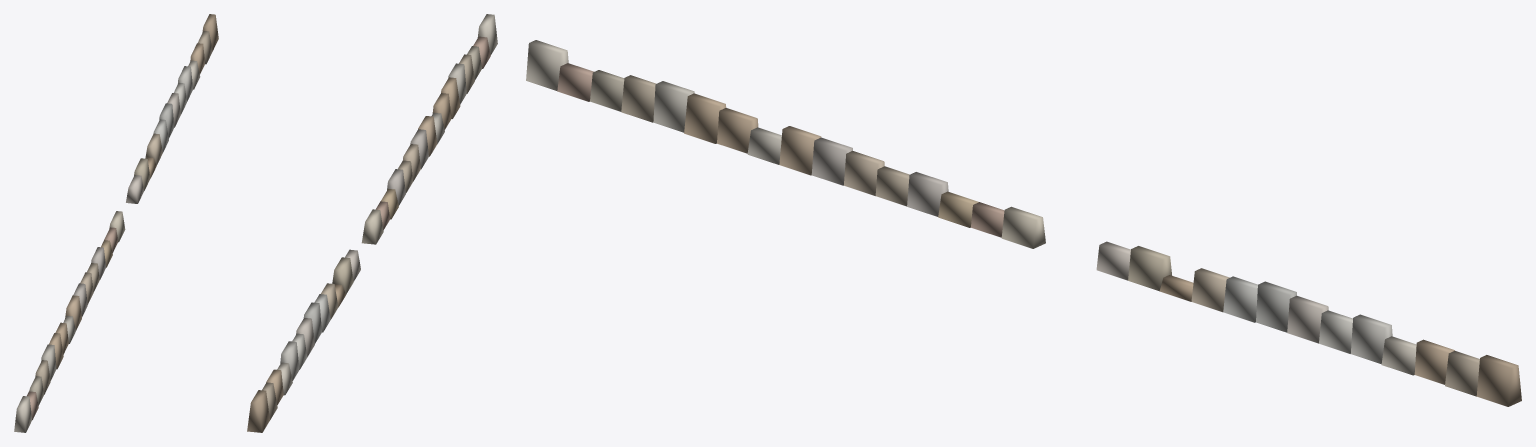
Rendered from farm_-9_11_collision.glb.
3 renders of one model, left to right at view 1: azimuth 30°, elevation 25°; view 2: azimuth 210°, elevation 25°; view 3: azimuth 270°, elevation 25°, orthographic. The views are drawn at different scales.
Parts seen in each view (by area): view 1: geometry_0; view 2: geometry_0; view 3: geometry_0.
Part boxes in pixels (bbox=[...]): geometry_0: bbox=[14, 14, 218, 432]; geometry_0: bbox=[247, 14, 497, 432]; geometry_0: bbox=[526, 40, 1521, 406].
Size of the model in its own units: 33.73 by 3.88 by 36.25.
